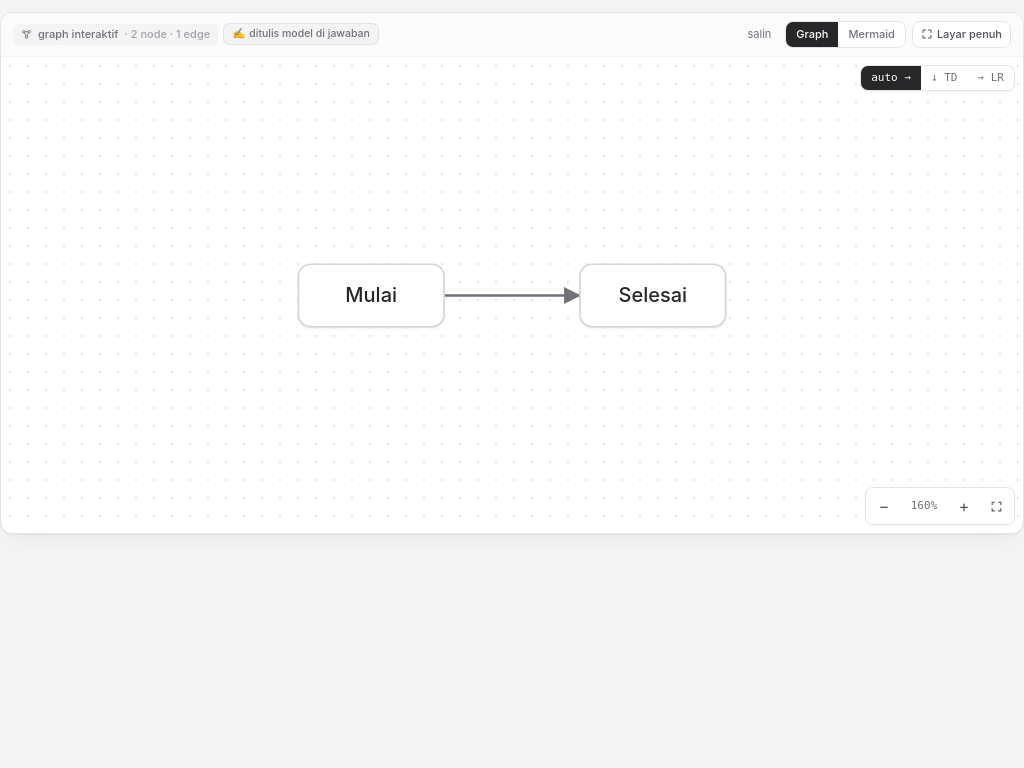
Test: DiagramBlock — kanvas lebar & layar penuh › tanpa Fullscreen API: fallback focus mode, tetap fullscreen secara visual
Check: the button with test id "graph-node-A" is shown, box left=298, top=263, right=445, bottom=327
Click the button with test id "diagram-fullscreen" at (961, 34), box left=912, top=21, right=1011, bottom=48
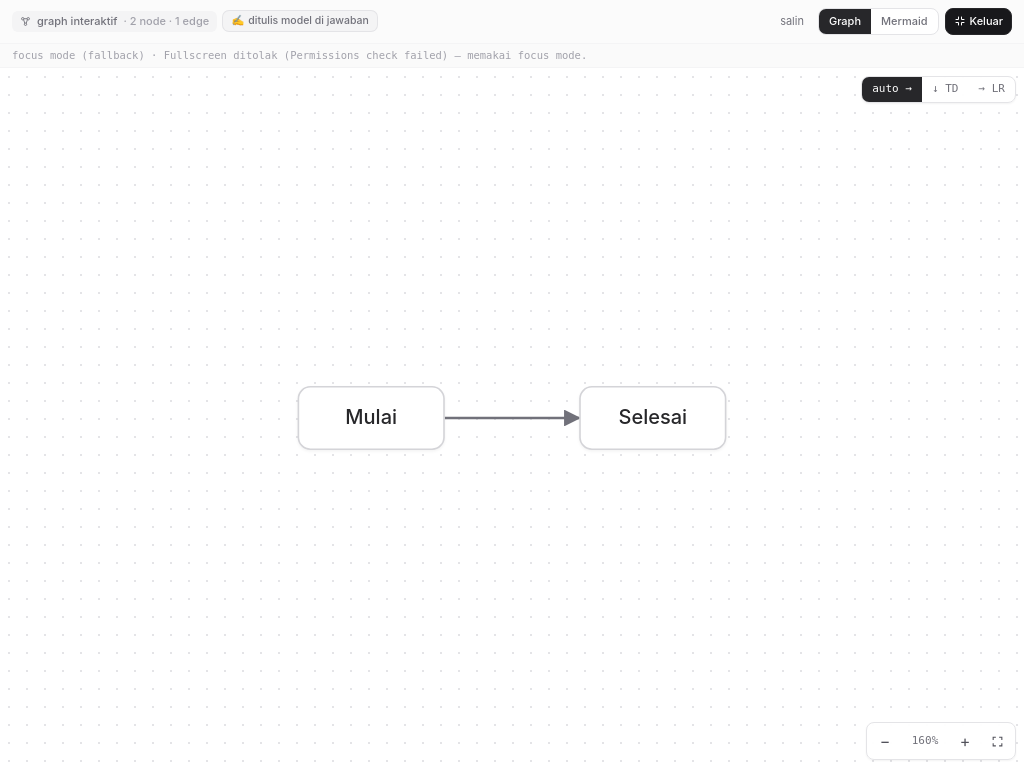
Check: the text "focus mode" is shown, box left=12, top=48, right=587, bottom=60
